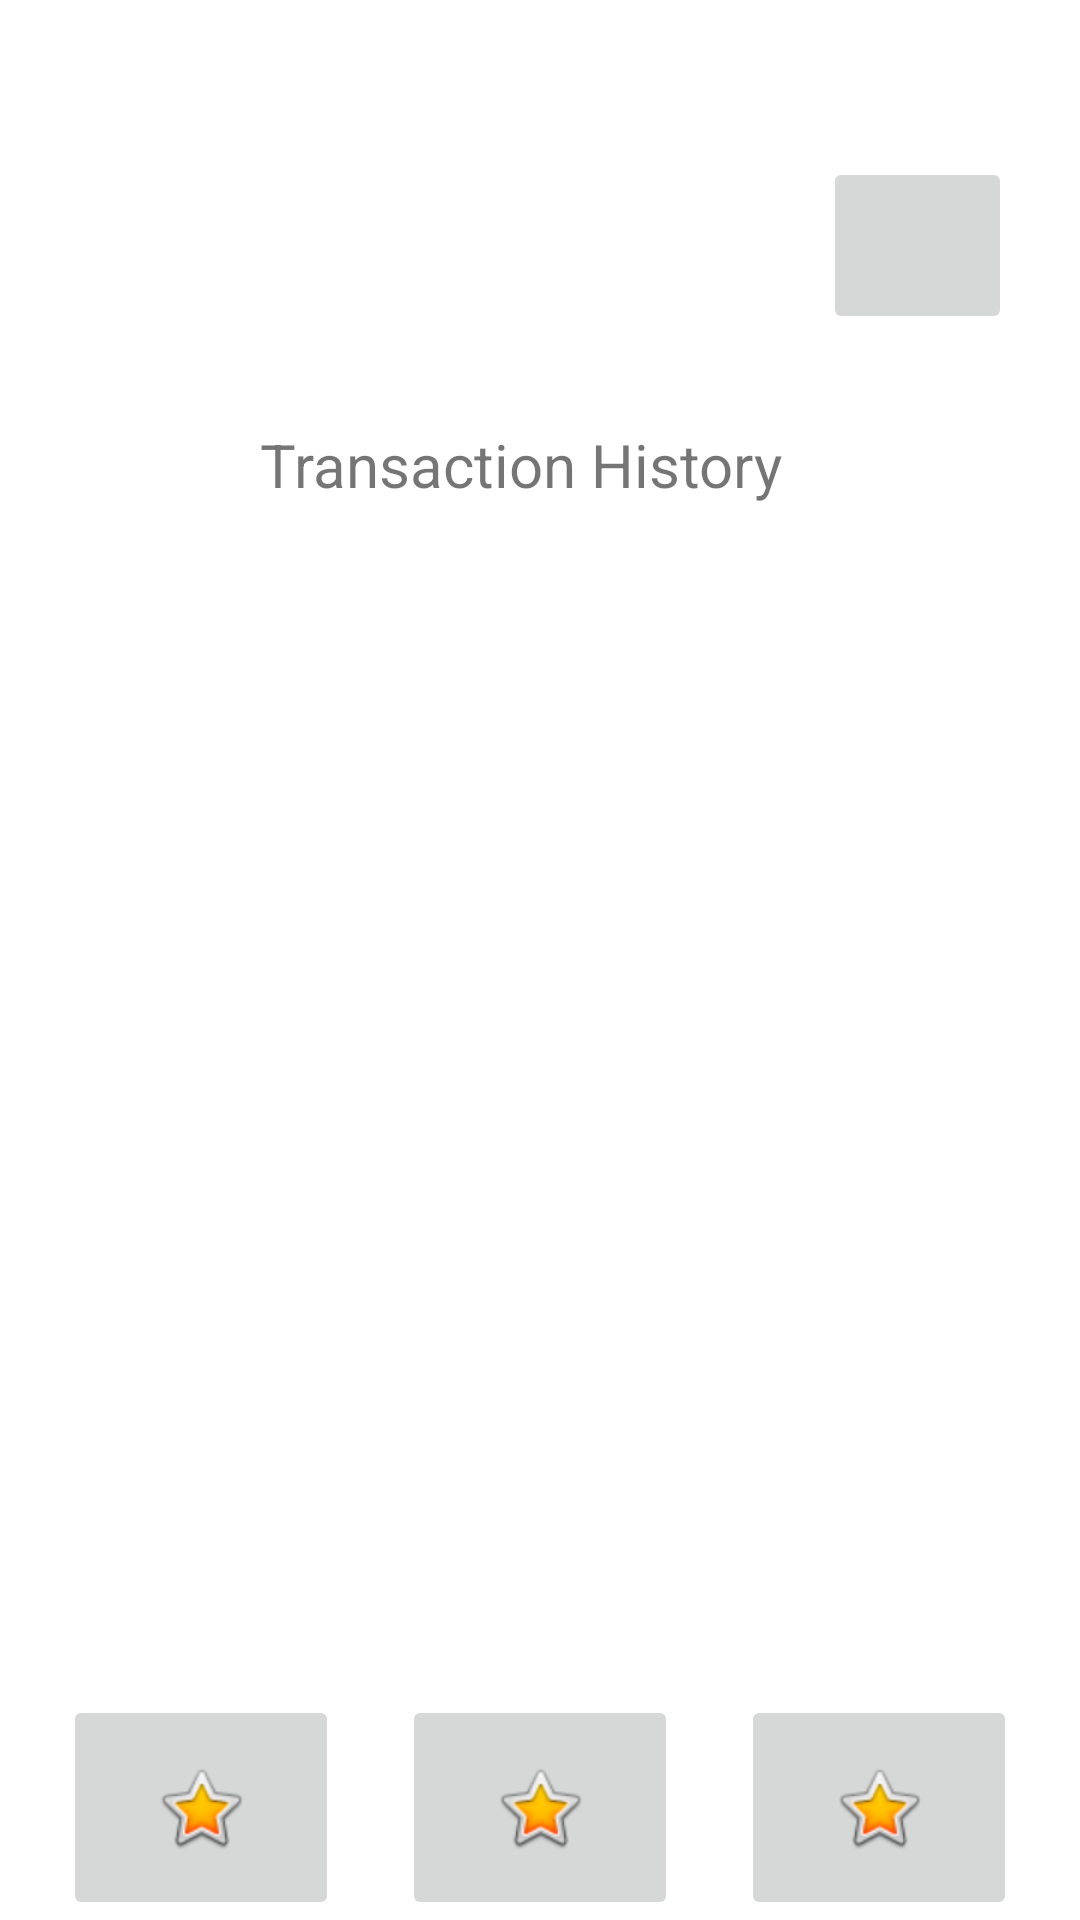

Icon click points for this 1080 × 1920 phone screenshot, format (x,y):
star on: (201,1807), (540,1807), (879,1807)
